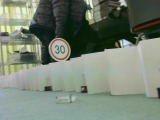speed_30: (46, 37, 72, 63)
